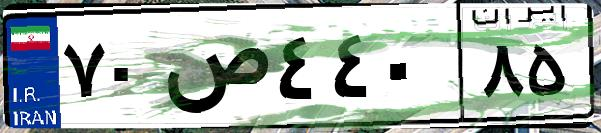0: (385, 28, 445, 110), (110, 28, 158, 98)
4: (270, 28, 330, 110), (330, 28, 385, 110)
5: (525, 38, 570, 115)
7: (57, 26, 110, 100)
8: (475, 38, 525, 113)
ص: (158, 20, 270, 120)
